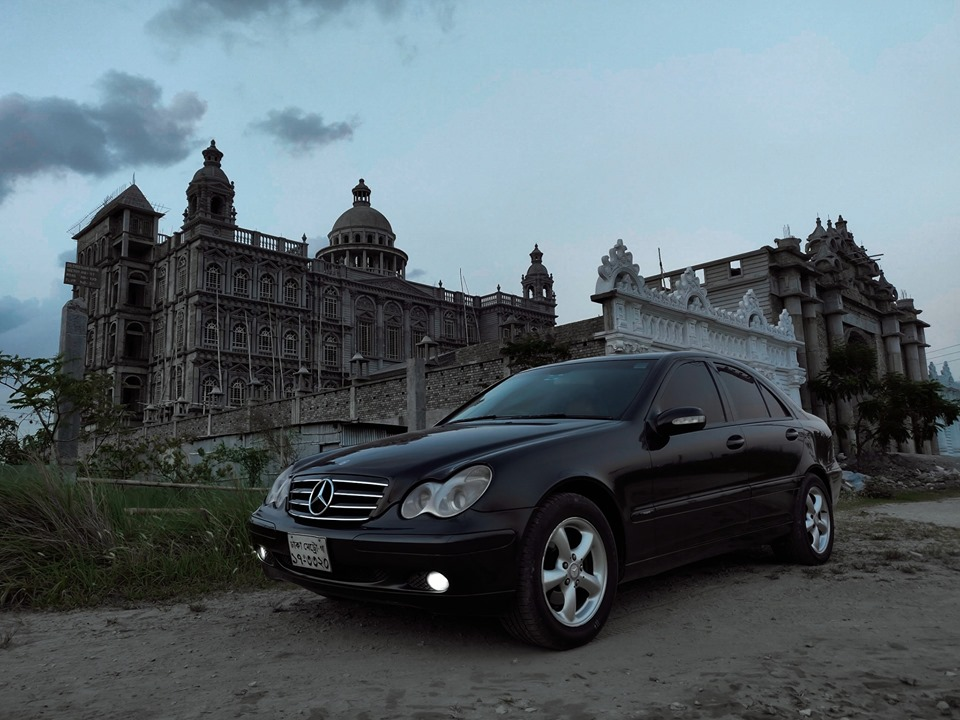registration_plate: (287, 531, 331, 572)
